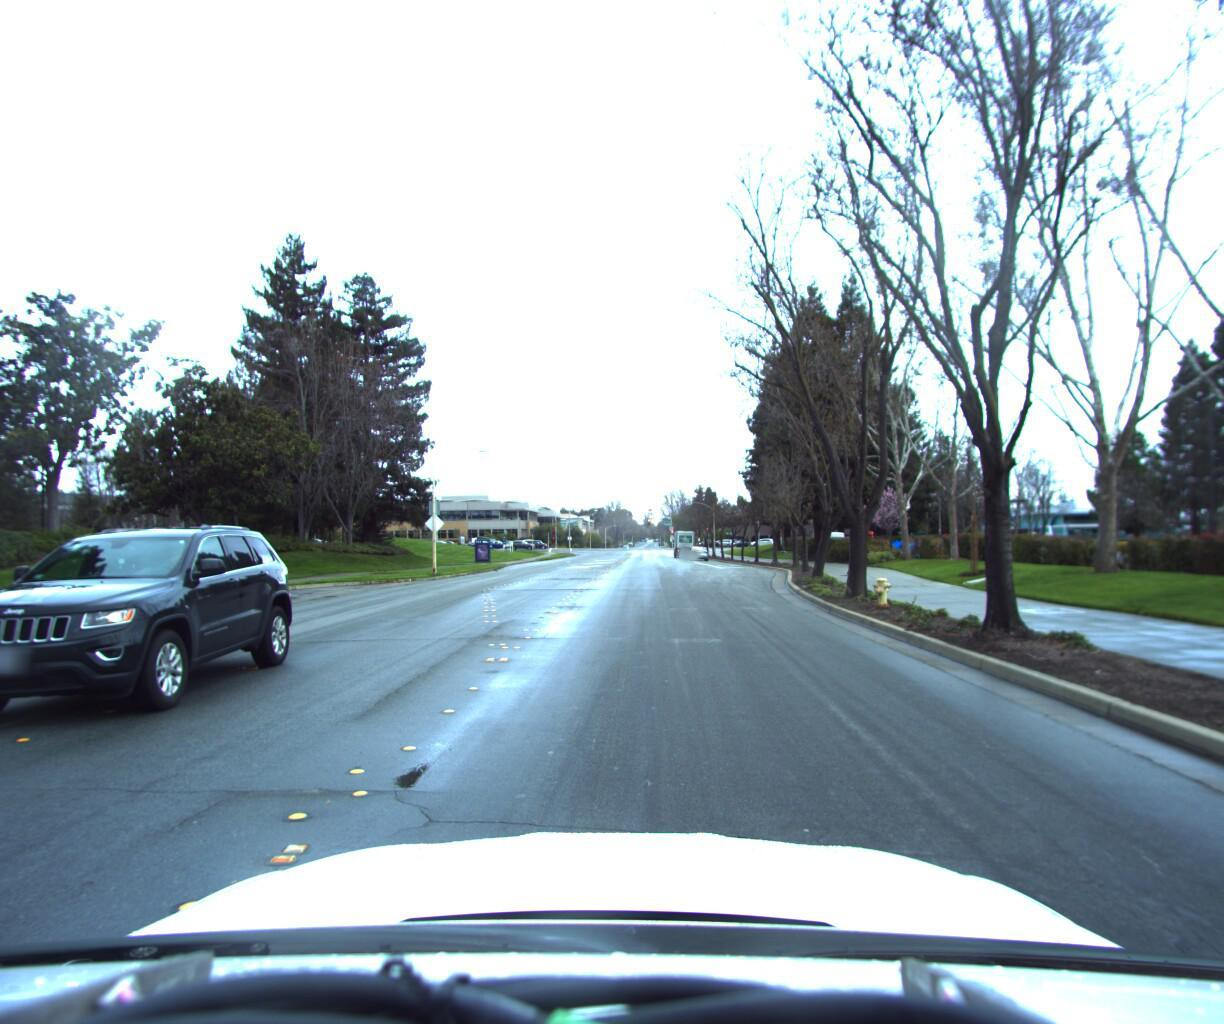car: (0, 518, 306, 744), (688, 546, 707, 562)
